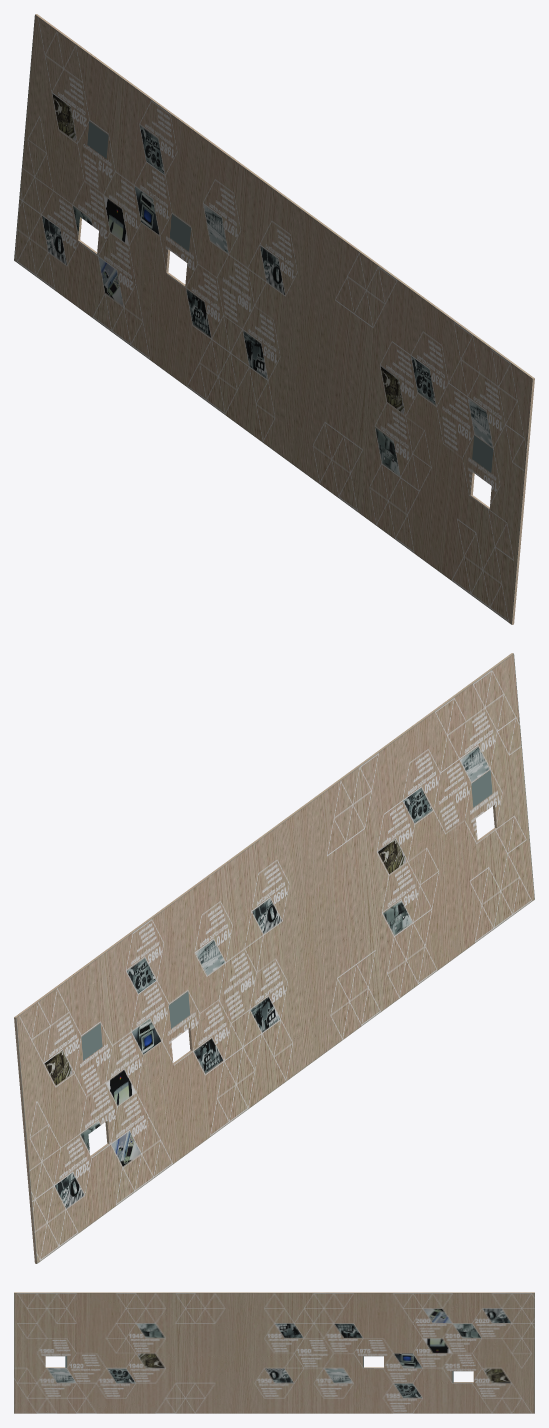
Rendered from Istoria.fbx.
3 views of the same model, one above another, from view 1: azimuth 30°, elevation 25°; view 2: azimuth 150°, elevation 25°; view 3: azimuth 270°, elevation 25° (orthographic). The views are drawn at different scales.
Visible parts, largest first — view 1: Mass Element <Standard> Body; view 2: Mass Element <Standard> Body; view 3: Mass Element <Standard> Body.
Boxes of the visible parts, x1=… form: Mass Element <Standard> Body: x1=14, y1=14, x2=534, y2=624; Mass Element <Standard> Body: x1=14, y1=653, x2=534, y2=1263; Mass Element <Standard> Body: x1=14, y1=1292, x2=534, y2=1413.
Size of the model in its own units: 0.2106 by 2.1 by 7.85.
1 material, 1 textured.
